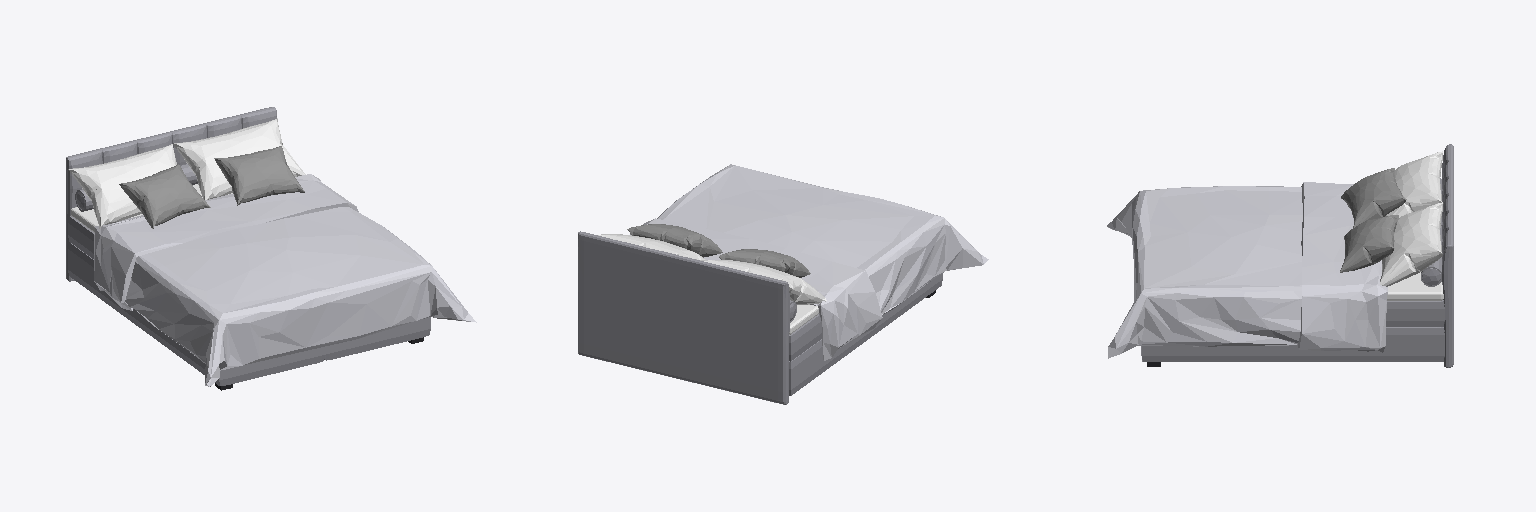
File: bed.obj
3 views of the same model, side by side, from view 1: azimuth 30°, elevation 25°; view 2: azimuth 150°, elevation 25°; view 3: azimuth 270°, elevation 25° (orthographic).
Parts seen in each view (by area): view 1: BedCover, BedMain, PillowLarge.001, PillowLarge, PillowSmall, PillowSmall.001; view 2: BedMain, BedCover, PillowSmall, PillowLarge.001, PillowSmall.001, PillowLarge; view 3: BedCover, BedMain, PillowLarge, PillowLarge.001, PillowSmall.001, PillowSmall, BedMattress.
Boxes of the visible parts, box(x1,y1,x2,y2) form: BedCover: box(94, 174, 476, 386); BedMain: box(66, 107, 430, 390); PillowLarge.001: box(68, 144, 176, 228); PillowLarge: box(173, 118, 305, 199); PillowSmall: box(214, 146, 304, 205); PillowSmall.001: box(119, 164, 210, 228); BedMain: box(578, 231, 942, 404); BedCover: box(630, 164, 988, 360); PillowSmall: box(627, 224, 722, 257); PillowLarge.001: box(700, 260, 826, 304); PillowSmall.001: box(719, 249, 810, 277); PillowLarge: box(598, 234, 705, 259); BedCover: box(1107, 182, 1387, 358); BedMain: box(1141, 144, 1453, 367); PillowLarge: box(1380, 202, 1442, 286); PillowLarge.001: box(1386, 151, 1443, 217); PillowSmall.001: box(1341, 168, 1406, 227); PillowSmall: box(1340, 215, 1398, 272); BedMattress: box(1387, 272, 1443, 300).
Bounding box in the file's own units: 2.07 × 0.8992 × 2.31.